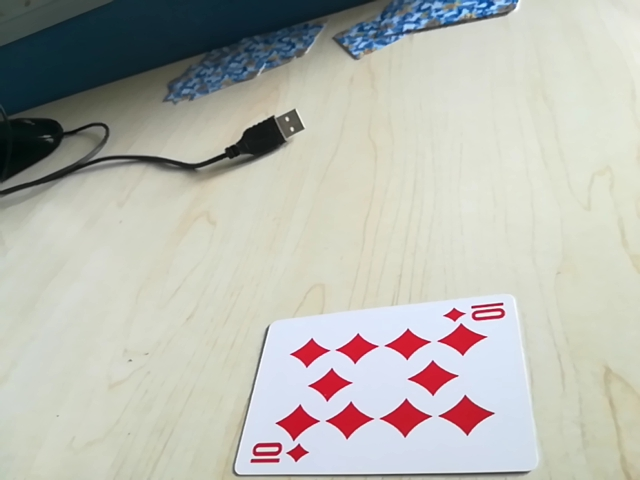fk 10: (443, 296, 513, 328), (244, 440, 309, 469)
